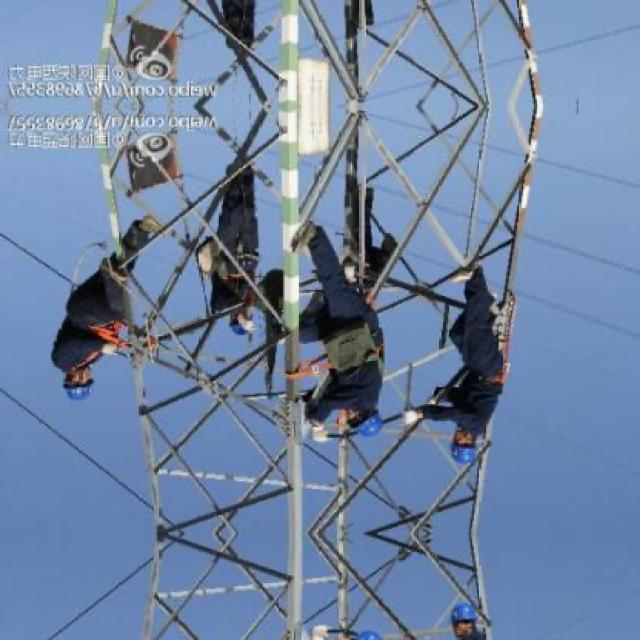con casco: (415, 415, 505, 477), (314, 382, 384, 454), (42, 348, 112, 414), (219, 290, 274, 341)
